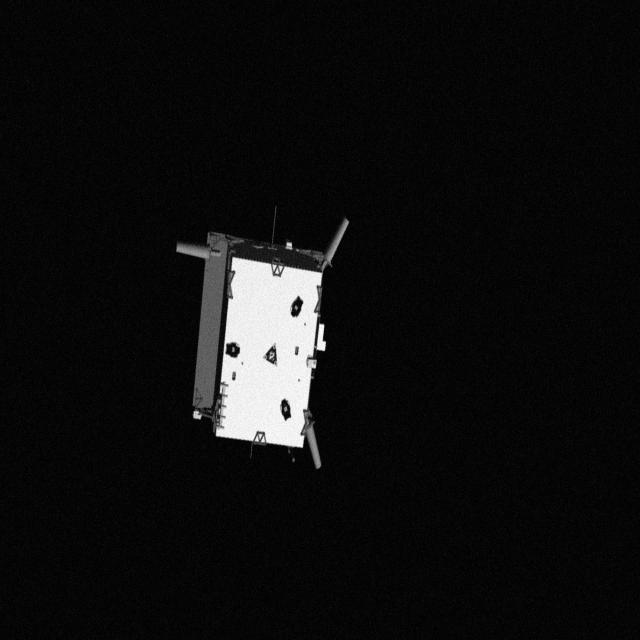satellite: (162, 208, 360, 480)
